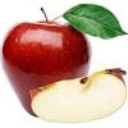apple: (26, 68, 128, 122)
